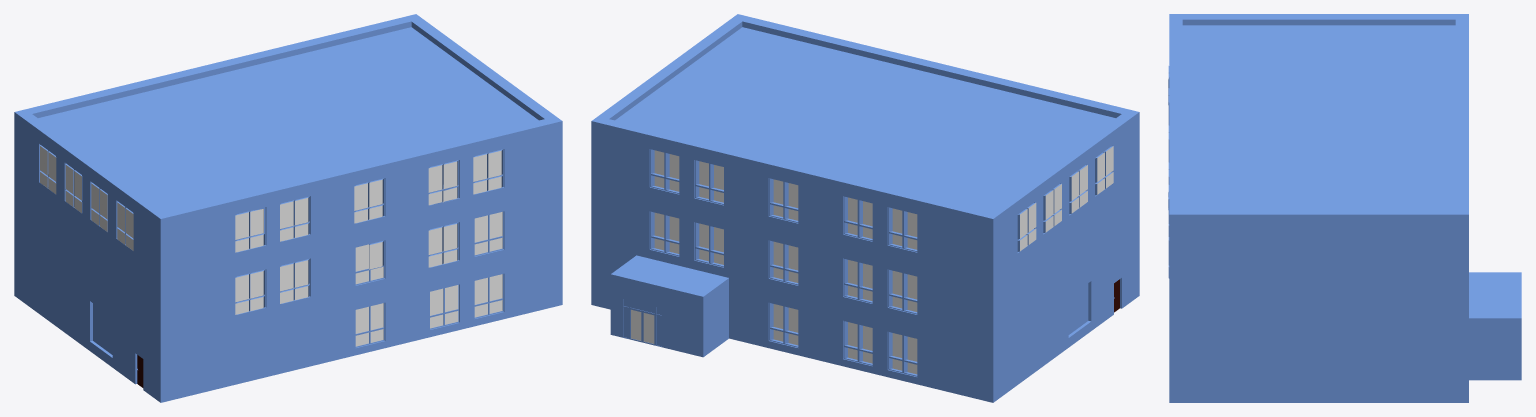
The model's file is building1.FBX.
3 views of the same model, side by side, from view 1: azimuth 30°, elevation 25°; view 2: azimuth 150°, elevation 25°; view 3: azimuth 270°, elevation 25° (orthographic). The views are drawn at different scales.
Parts seen in each view (by area): view 1: Cube; view 2: Cube; view 3: Cube.
Part boxes in pixels (bbox=[...]): Cube: bbox=[14, 14, 562, 402]; Cube: bbox=[591, 14, 1139, 402]; Cube: bbox=[1168, 14, 1521, 402].
Bounding box in the file's own units: 2704 × 1181 × 2010.
